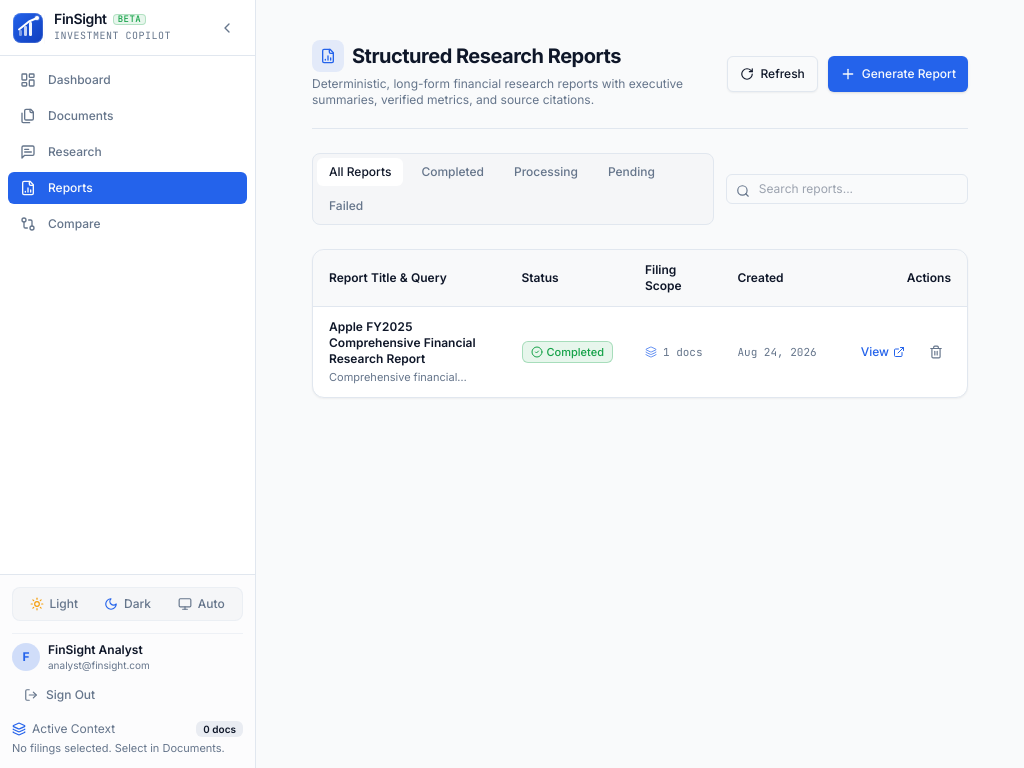
Test: Phase 11.7: Structured Research Reports UI › Reports Listing / History Page › filters reports by search query
Expected: the link "Apple FY2025 Comprehensive Financial Research Report" is shown, top-left (329, 319), bottom-right (490, 367)
Type "Nonexistent" into the field with test id "search-reports-input" at coordinates (847, 189), box top-left (726, 174), bottom-right (968, 204)
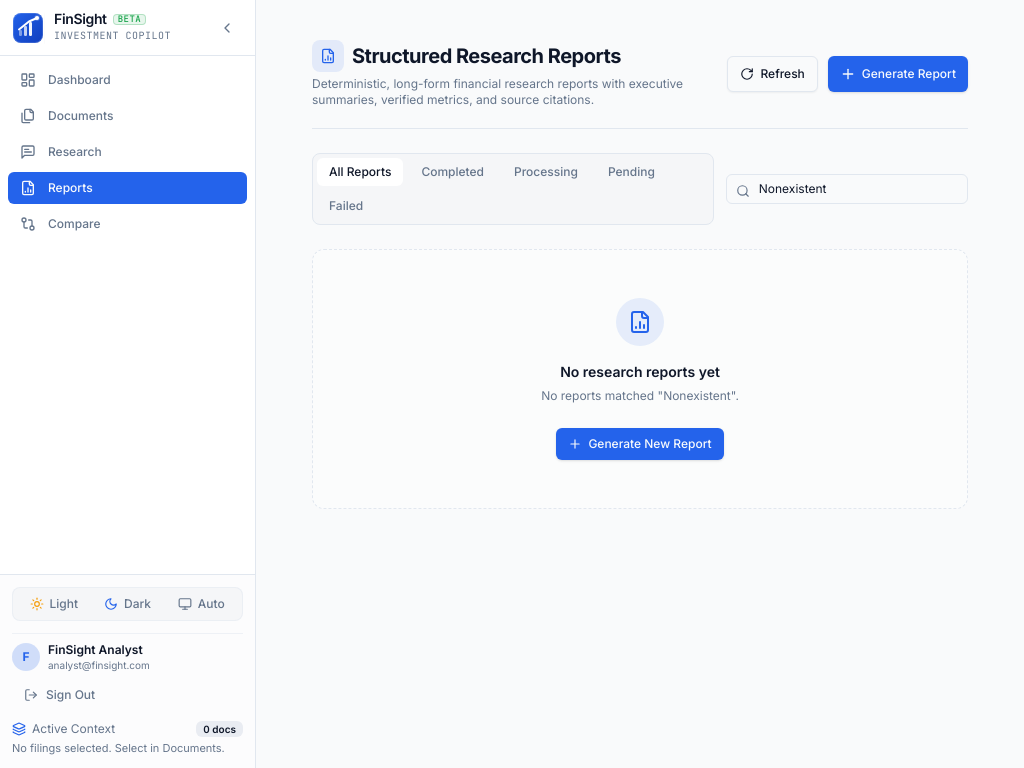
Result: the link "Apple FY2025 Comprehensive Financial Research Report" is gone
Result: the element with test id "reports-empty-state" is shown at top-left (312, 249), bottom-right (968, 509)
